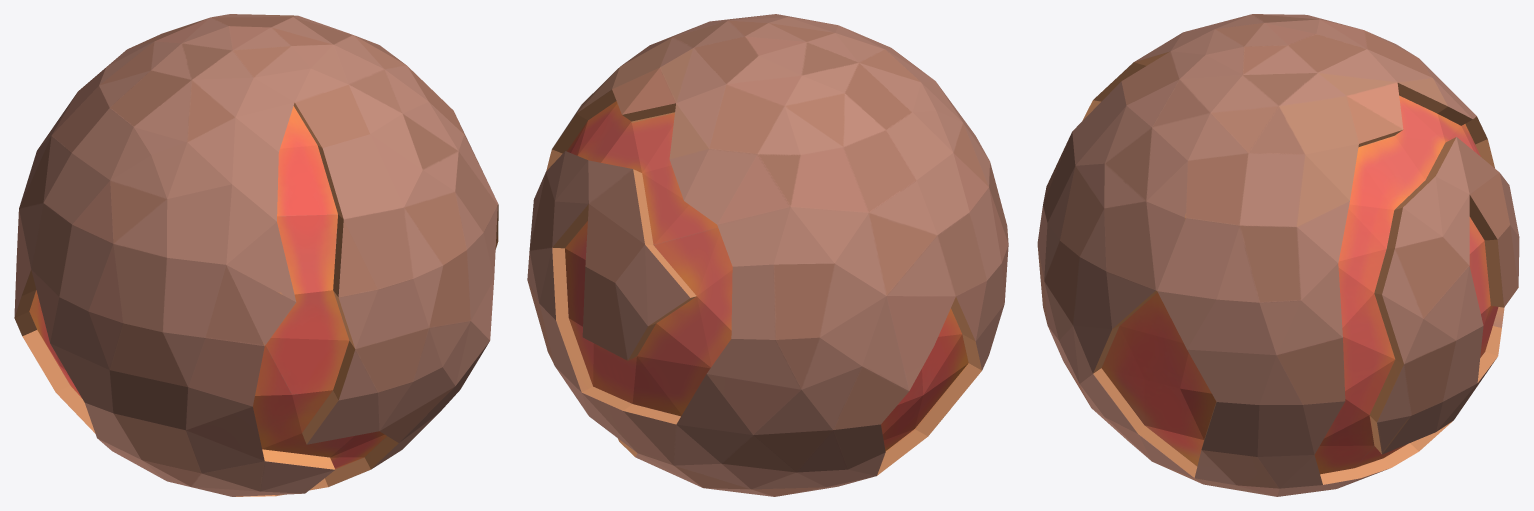
The model's file is planeta-vulcanico.fbx.
3 renders of one model, left to right at view 1: azimuth 30°, elevation 25°; view 2: azimuth 150°, elevation 25°; view 3: azimuth 270°, elevation 25°, orthographic.
Parts seen in each view (by area): view 1: planeta-vulcanico, lava; view 2: planeta-vulcanico, lava; view 3: planeta-vulcanico, lava.
Boxes of the visible parts, left/top/right/bottom form: planeta-vulcanico: left=14, top=14, right=498, bottom=496; lava: left=29, top=106, right=386, bottom=469; planeta-vulcanico: left=527, top=14, right=1008, bottom=496; lava: left=565, top=101, right=968, bottom=451; planeta-vulcanico: left=1037, top=14, right=1519, bottom=496; lava: left=1101, top=95, right=1498, bottom=474.
Bounding box in the file's own units: 1625 × 1625 × 1623.
